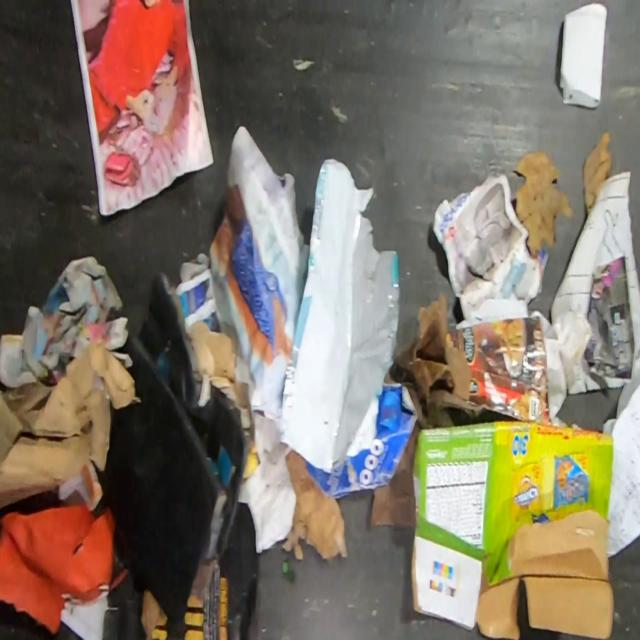cardboard: (410, 416, 615, 640), (397, 294, 593, 421), (0, 339, 136, 511), (279, 445, 346, 560)
soft_plastic: (279, 159, 400, 474)
